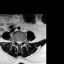CCS_stenosis: (18, 39, 19, 46)
LFS_normal: (21, 39, 23, 44)
LLS_normal: (19, 39, 21, 45)
RFS_normal: (15, 39, 16, 44)
RLS_normal: (16, 39, 18, 45)
